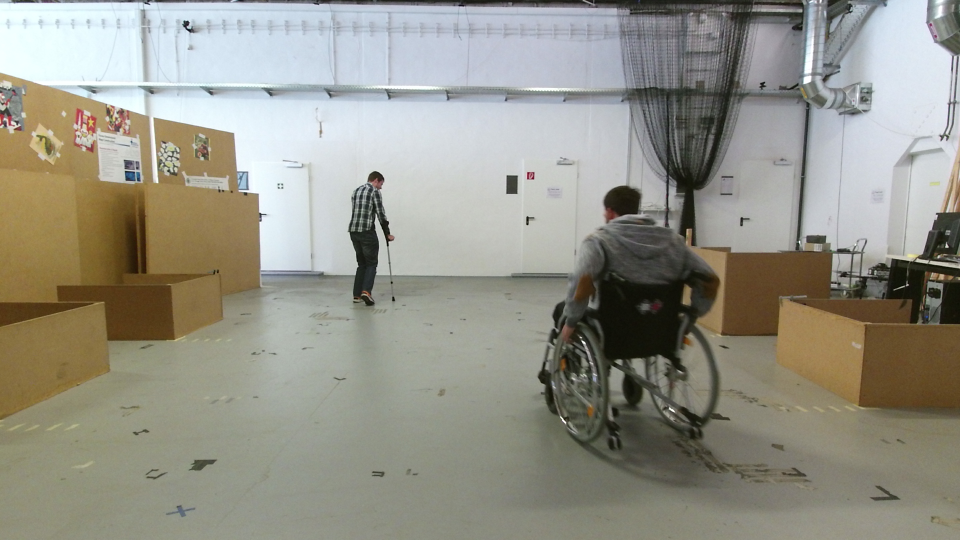crutches: (340, 161, 407, 316)
wheelchair: (527, 179, 743, 480)
